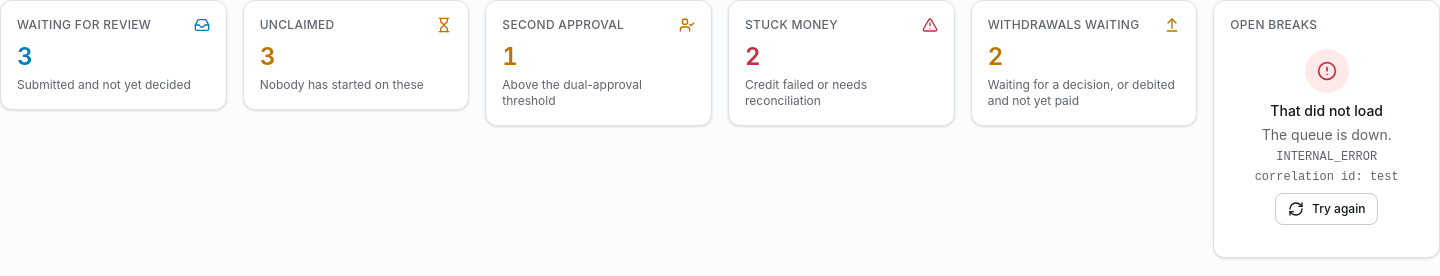
Scenario: QueueTiles › breaks only the breaks tile when reconciliation is the thing that is down
Check: the text "The queue is down." is shown, box 1255,125 -> 1399,145
Check: the text "3" below "Waiting for review" is shown, box 17,42 -> 32,71
Step 1. Click the button "Try again" → (1327, 209), box 1275,193 -> 1378,225
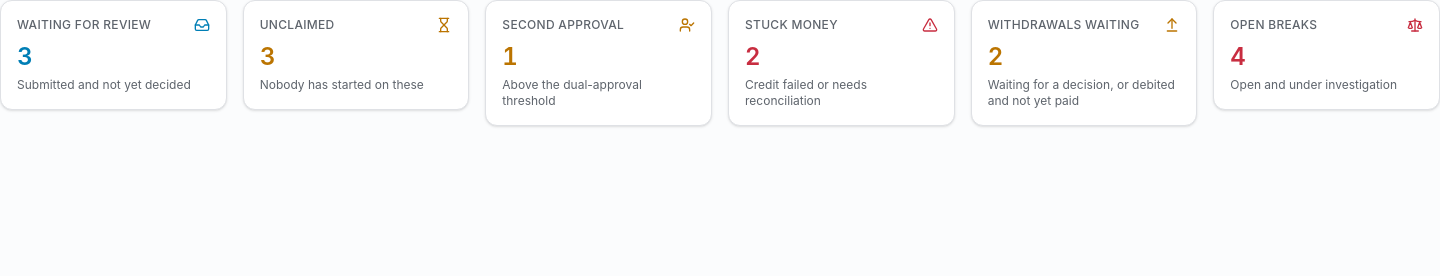
Check: the text "4" is shown, box 1230,42 -> 1246,71
